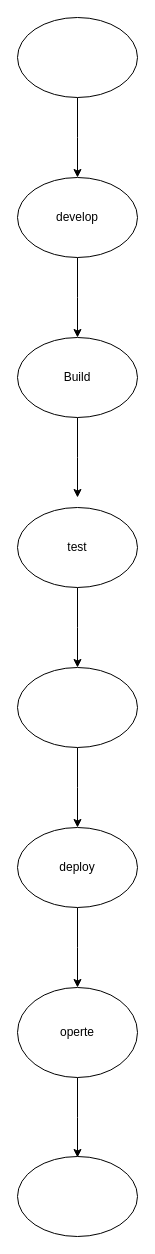
The diagram is 155 pixels wide and 1254 high, and some of its shapes have lost their labels. Each missing label, with the centre of its shape:
"plan" goes at point (77, 57).
"release" goes at point (77, 707).
